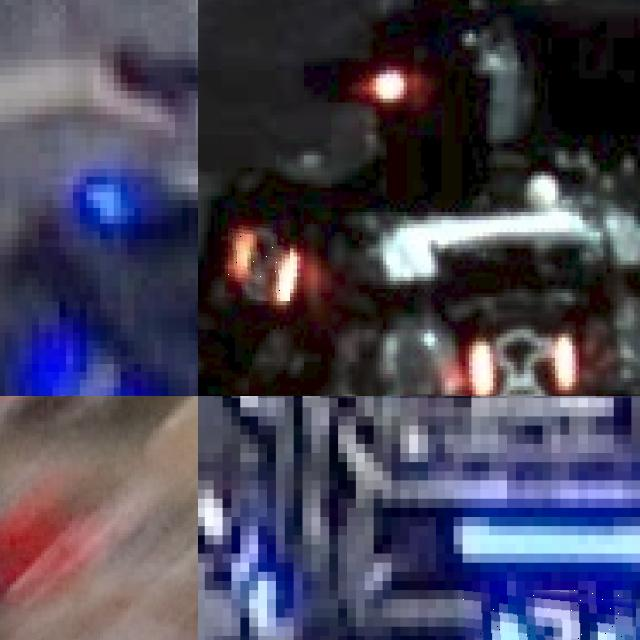B2: (458, 581, 636, 640)
Rs: (469, 329, 572, 396), (228, 220, 290, 301)
